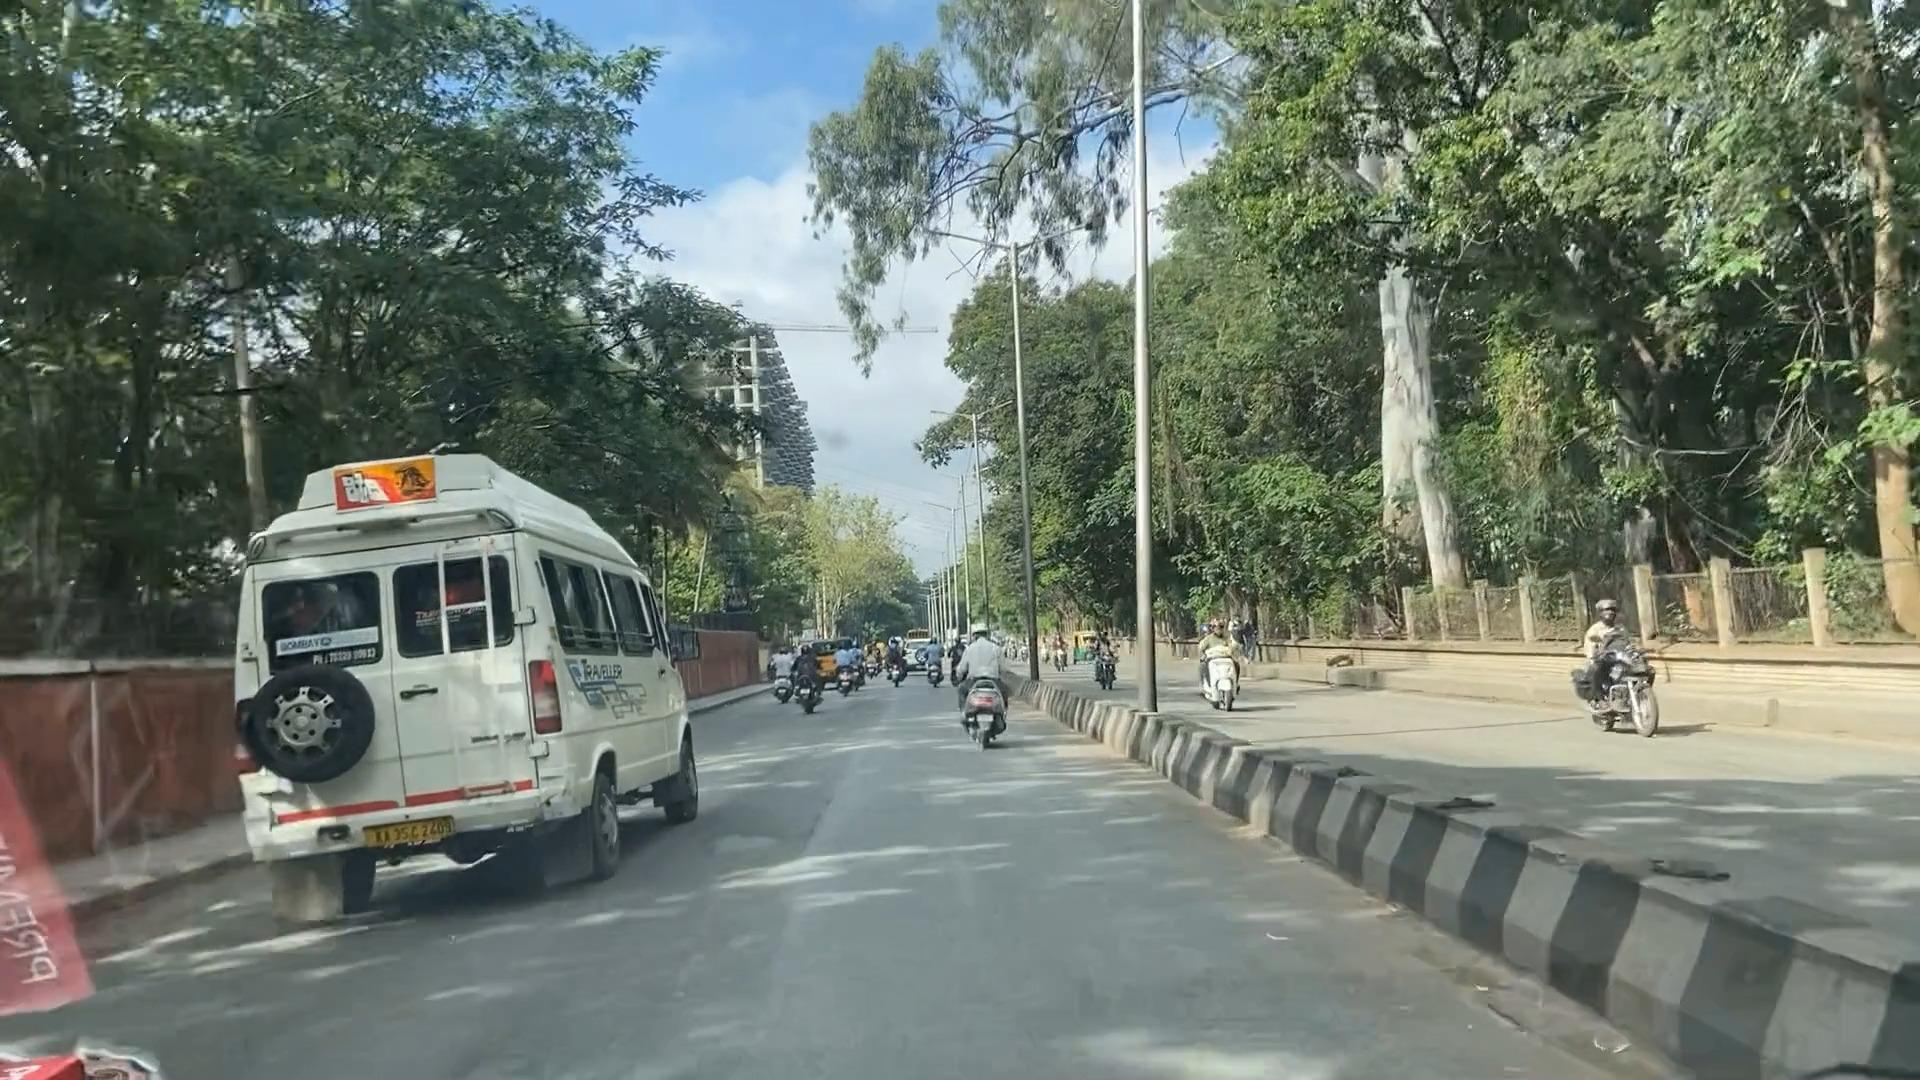HMV: (233, 446, 698, 889)
